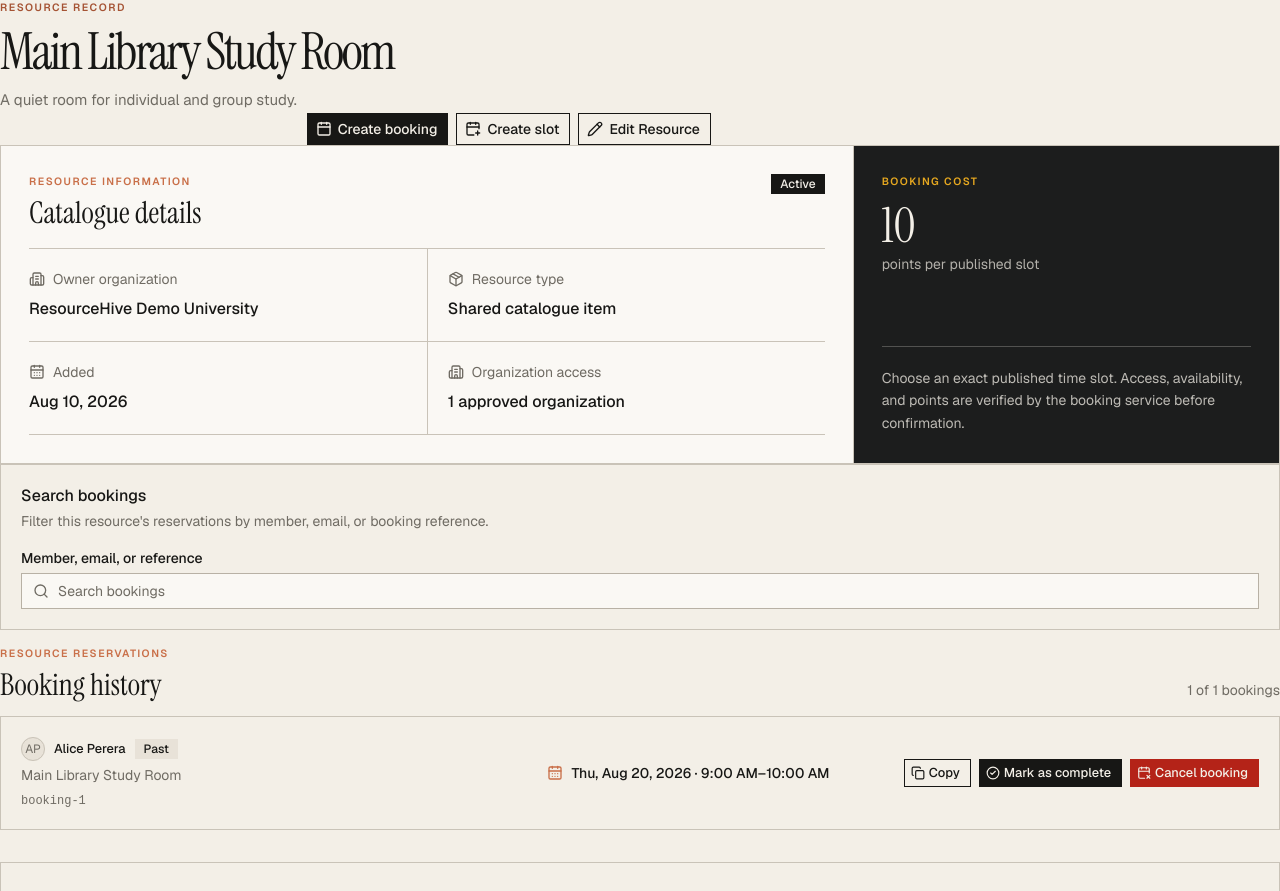
Scenario: ResourceDetails › shows live booking members and their account details to an administrator
Expected: the heading "Main Library Study Room" is shown, x1=0 y1=18 x2=394 y2=85
Expected: the text "ResourceHive Demo University" is shown, x1=29 y1=298 x2=259 y2=319
Click the button "Alice Perera" at (90, 749), box x1=53 y1=738 x2=127 y2=759
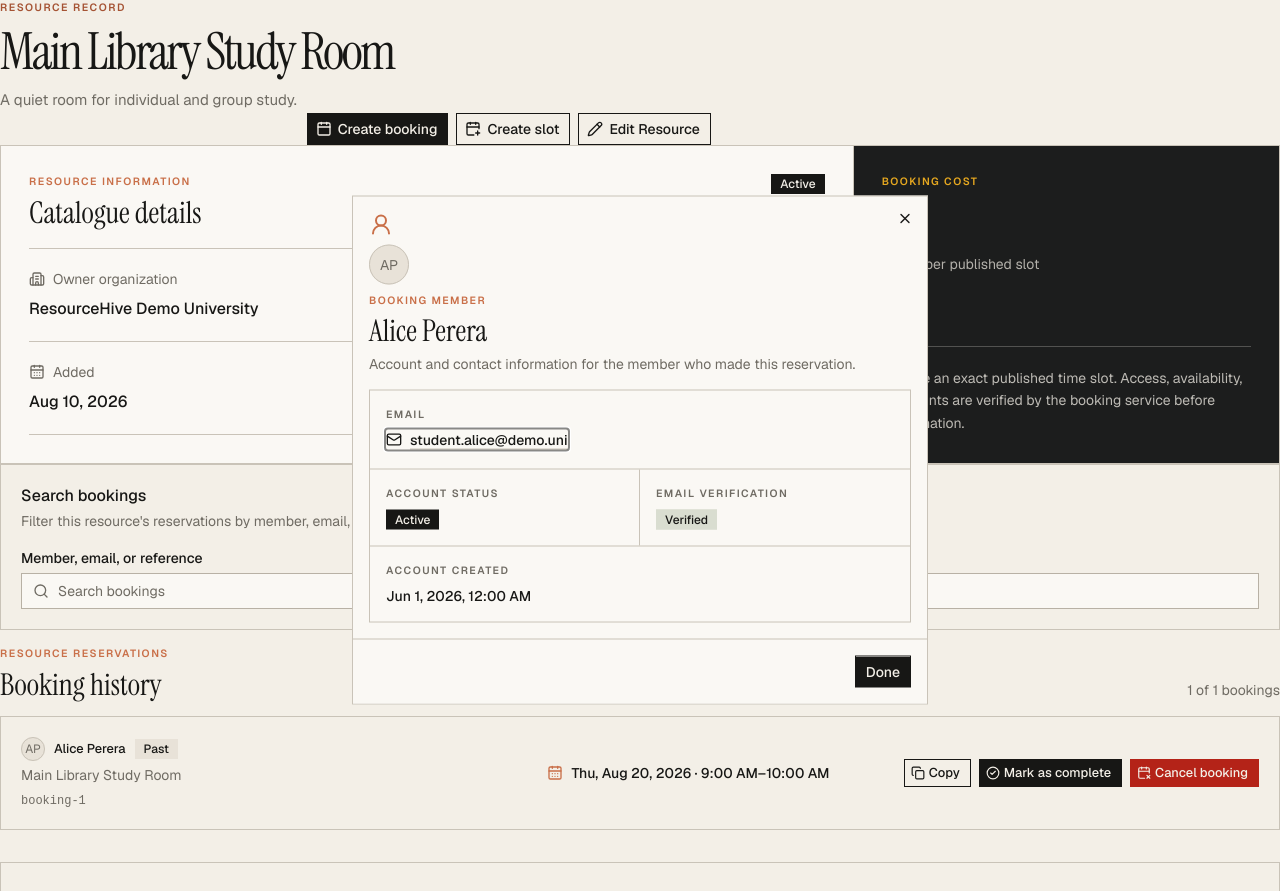
Now the link "student.alice@demo.uni" is shown, box x1=386 y1=430 x2=568 y2=450
Now the text "Email verification" is shown, box x1=656 y1=486 x2=788 y2=500
